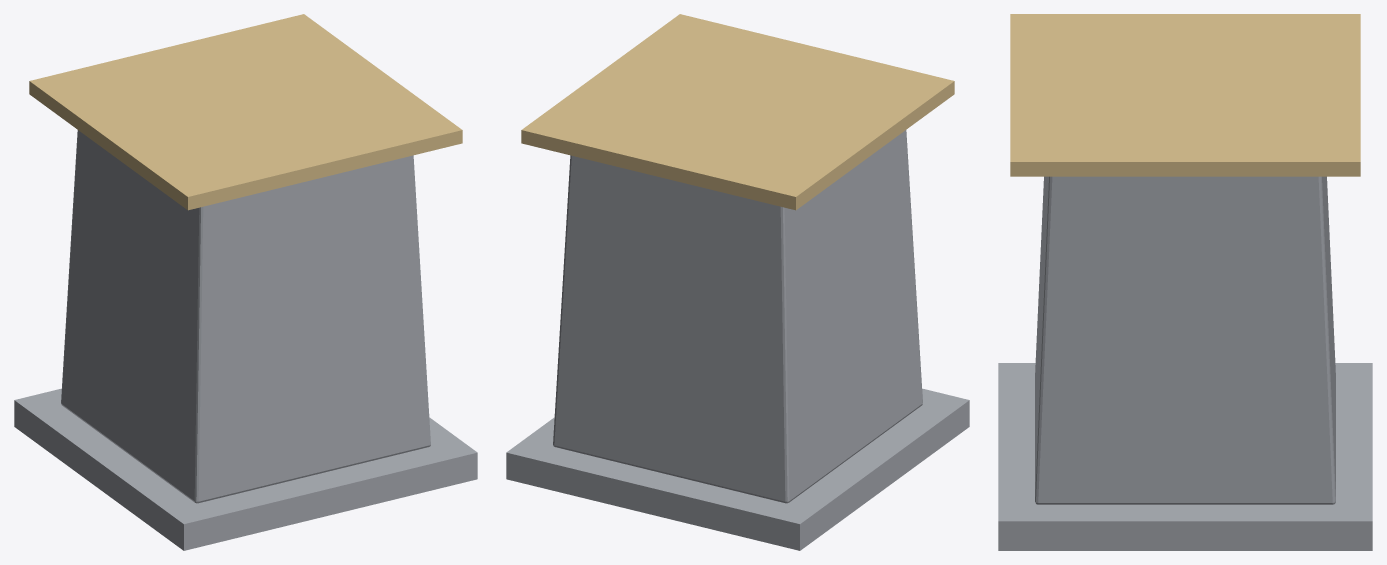
File: pedestal.glb
3 renders of one model, left to right at view 1: azimuth 30°, elevation 25°; view 2: azimuth 150°, elevation 25°; view 3: azimuth 270°, elevation 25°, orthographic. The views are drawn at different scales.
Parts seen in each view (by area): view 1: PedShaft, PedCap, PedBase; view 2: PedShaft, PedCap, PedBase; view 3: PedShaft, PedCap, PedBase.
Boxes of the visible parts, x1,y1,x2,y2 form: PedShaft: (61, 130, 430, 503); PedCap: (29, 14, 462, 210); PedBase: (14, 388, 477, 550); PedShaft: (553, 130, 922, 503); PedCap: (521, 14, 954, 210); PedBase: (506, 388, 969, 550); PedShaft: (1035, 176, 1335, 504); PedCap: (1010, 14, 1360, 176); PedBase: (998, 363, 1372, 550).
Size of the model in its own units: 0.92 by 1.04 by 0.92.
